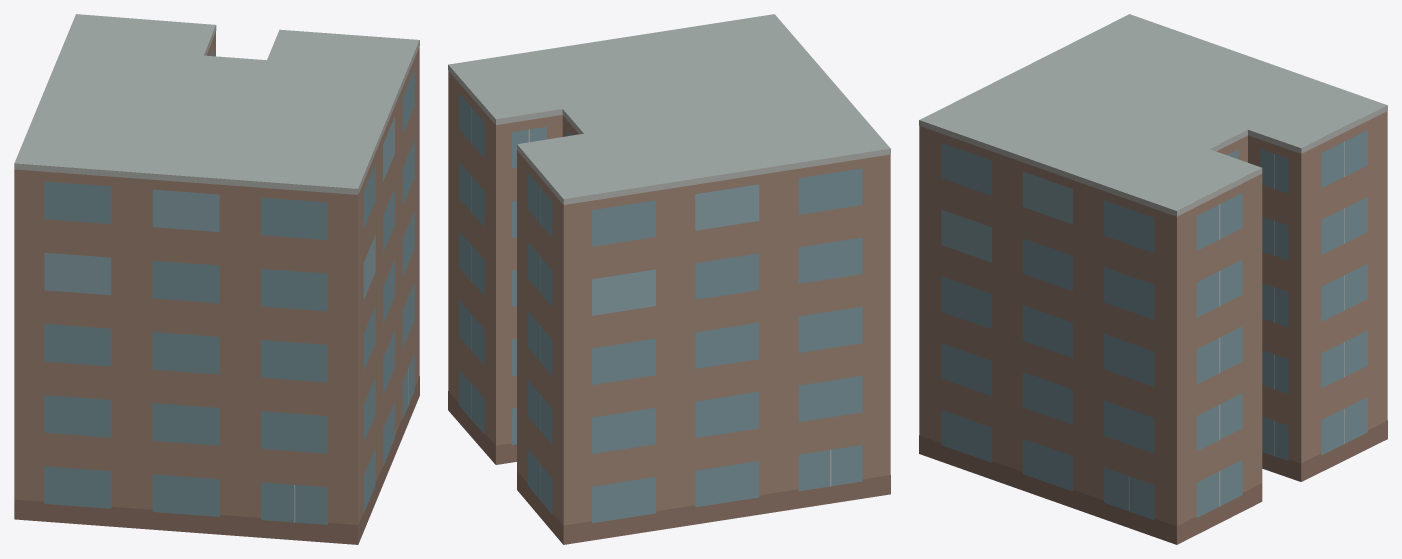
Rendered from survey-upis-32888578.glb.
3 views of the same model, side by side, from view 1: azimuth 30°, elevation 25°; view 2: azimuth 150°, elevation 25°; view 3: azimuth 270°, elevation 25° (orthographic). The views are drawn at different scales.
Parts seen in each view (by area): view 1: survey-upis-32888578.tmp; view 2: survey-upis-32888578.tmp; view 3: survey-upis-32888578.tmp.
Part boxes in pixels (<box>): survey-upis-32888578.tmp: <box>14,14,419,544</box>; survey-upis-32888578.tmp: <box>448,14,890,544</box>; survey-upis-32888578.tmp: <box>919,14,1387,544</box>.
Bounding box in the file's own units: 18.24 × 14.4 × 18.32.
